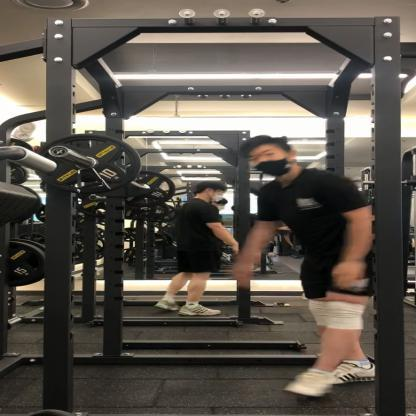Barbell: (50, 145, 72, 160)
